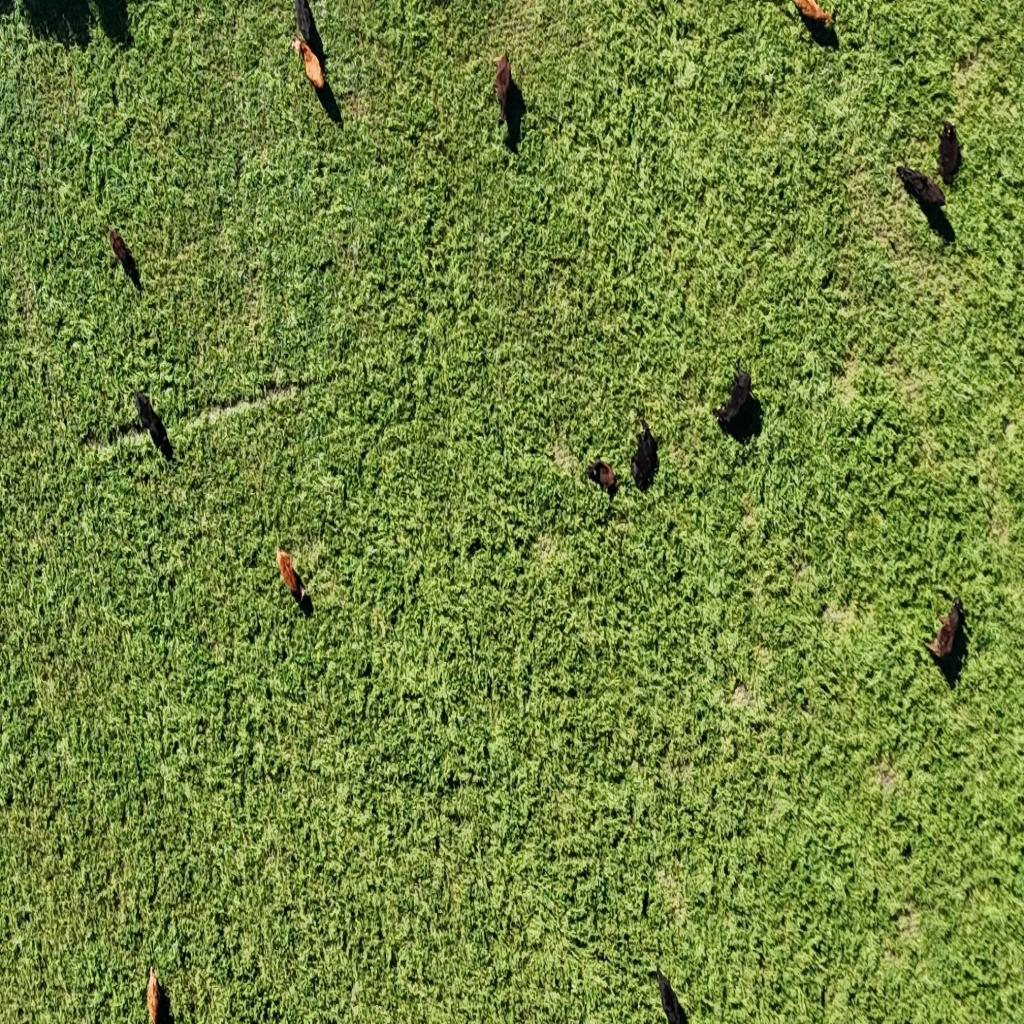cow: (294, 41, 340, 137), (286, 0, 326, 92), (924, 607, 968, 688), (713, 366, 757, 442), (904, 183, 956, 247), (624, 406, 662, 492), (132, 390, 172, 460), (88, 0, 136, 52), (275, 545, 311, 613), (497, 77, 525, 160), (652, 966, 692, 1024), (110, 226, 142, 292), (98, 417, 156, 449), (142, 965, 172, 1024), (790, 0, 836, 38), (492, 51, 514, 130), (936, 118, 961, 184), (586, 456, 620, 498), (292, 0, 318, 53), (80, 425, 127, 451)
